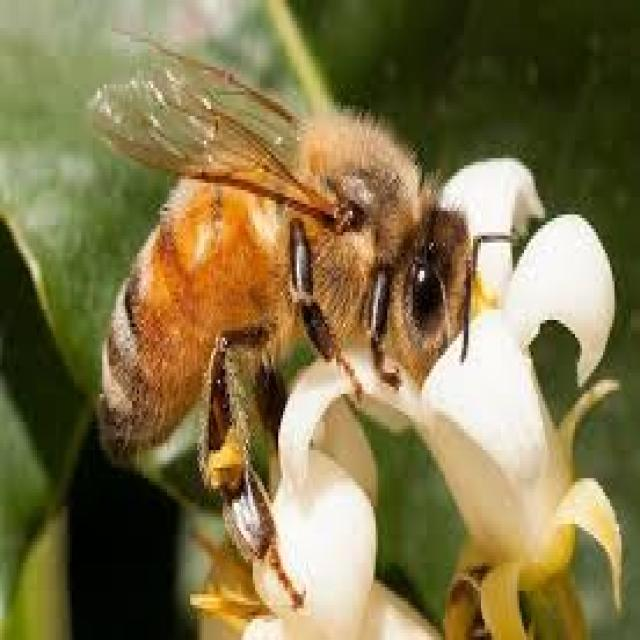Bees: (96, 25, 516, 590)
